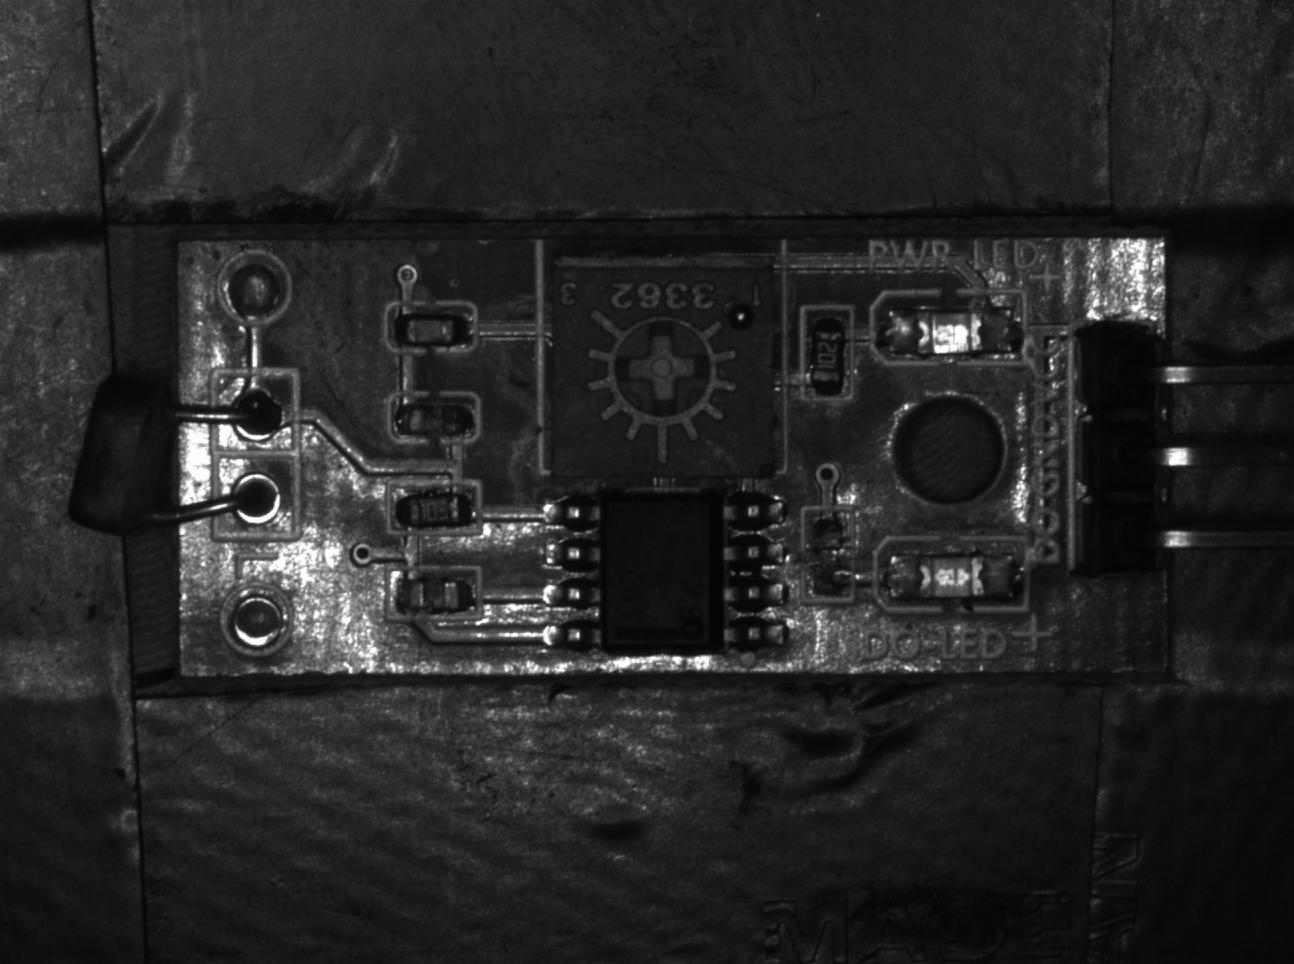miss: (383, 565, 486, 628), (804, 504, 863, 609), (385, 394, 488, 449)
ok: (385, 473, 486, 539), (378, 300, 474, 354), (801, 304, 853, 400)
